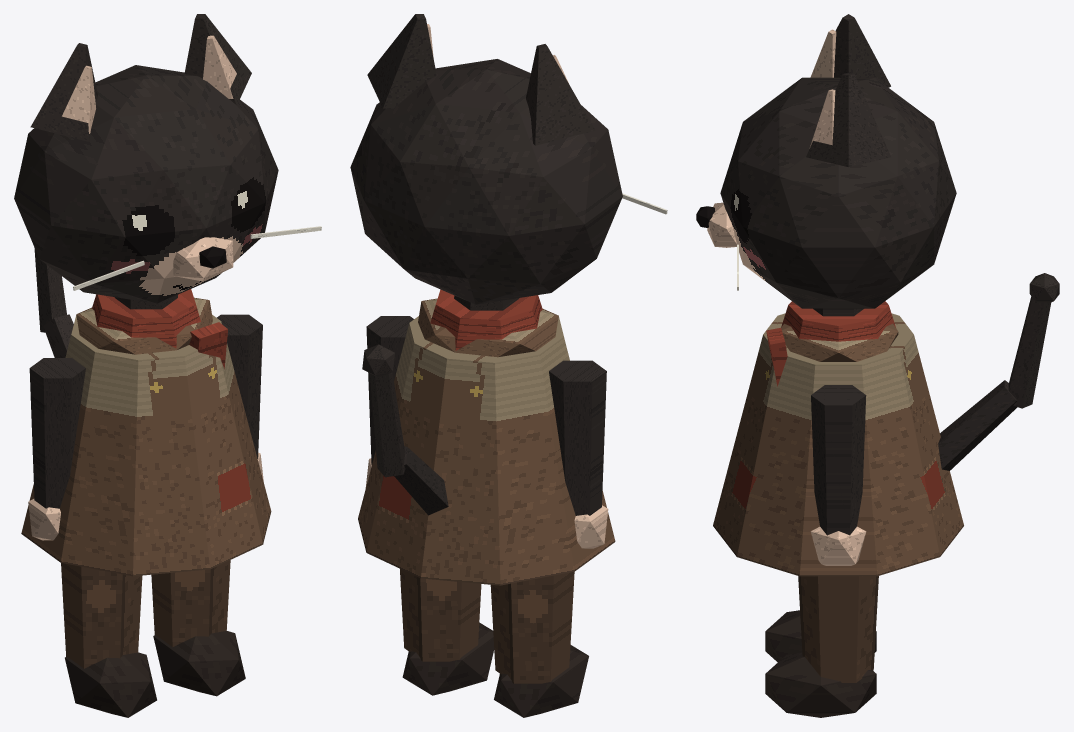
File: farmer.glb
The picture shows the model from 3 angles, left to right: view 1: azimuth 30°, elevation 25°; view 2: azimuth 150°, elevation 25°; view 3: azimuth 270°, elevation 25°; orthographic projection. The views are drawn at different scales.
Parts seen in each view (by area): view 1: head, torso, leg-left, leg-right, arm-left, arm-right, tail; view 2: head, torso, leg-left, leg-right, arm-left, tail, arm-right; view 3: head, torso, leg-right, arm-right, tail, leg-left.
Part boxes in pixels (x1,y1,x2,y2): head: [14, 14, 321, 303]; torso: [21, 289, 271, 576]; leg-left: [61, 563, 156, 717]; leg-right: [151, 560, 245, 696]; arm-left: [28, 358, 85, 540]; arm-right: [217, 314, 263, 480]; tail: [34, 247, 73, 357]; head: [350, 14, 667, 304]; torso: [358, 289, 615, 585]; leg-left: [490, 571, 588, 717]; leg-right: [400, 569, 494, 695]; arm-left: [549, 360, 608, 548]; tail: [362, 344, 448, 515]; arm-right: [365, 316, 413, 487]; head: [696, 14, 956, 308]; torso: [713, 301, 963, 576]; leg-right: [765, 576, 878, 717]; arm-right: [810, 385, 866, 565]; tail: [938, 273, 1059, 470]; leg-left: [765, 610, 876, 662].
Size of the model in its own units: 0.5598 by 1.43 by 0.7226.
1 material, 1 textured.
